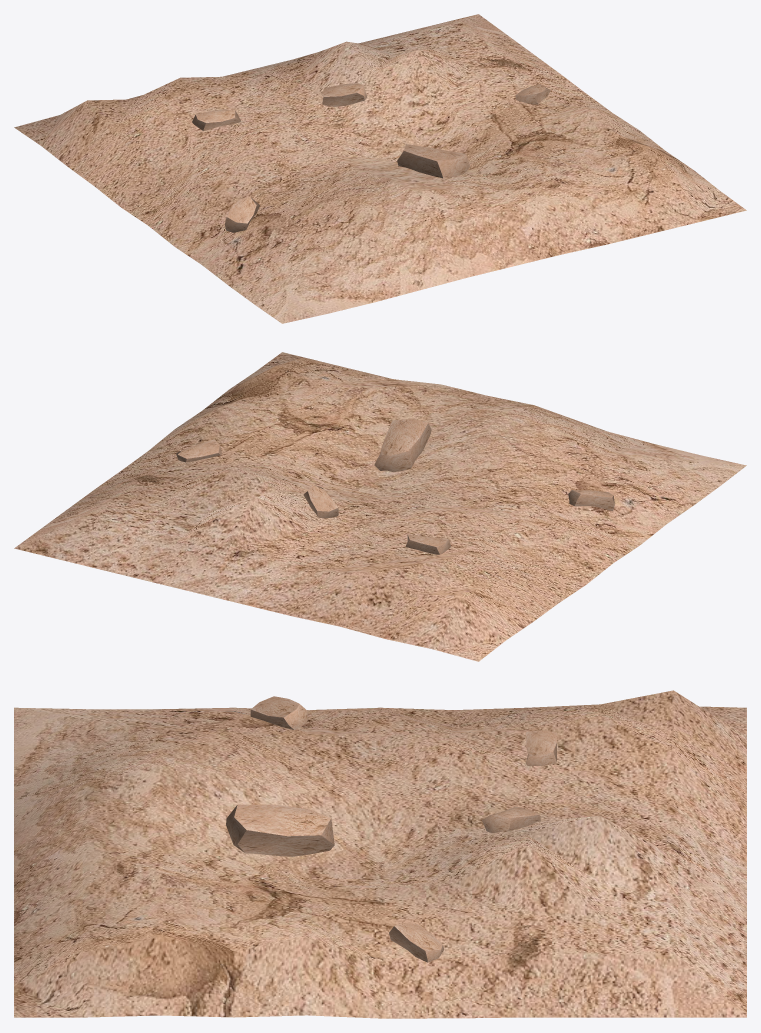
File: mud.fbx
3 renders of one model, top to bottom at view 1: azimuth 30°, elevation 25°; view 2: azimuth 150°, elevation 25°; view 3: azimuth 270°, elevation 25°, orthographic. The views are drawn at different scales.
Visible parts, largest first — view 1: mud; view 2: mud; view 3: mud.
Part boxes in pixels (x1,y1,x2,y2): mud: [14, 14, 746, 323]; mud: [14, 352, 746, 661]; mud: [14, 690, 746, 1018].
Size of the model in its own units: 150 by 18.15 by 150.
1 material, 1 textured.
